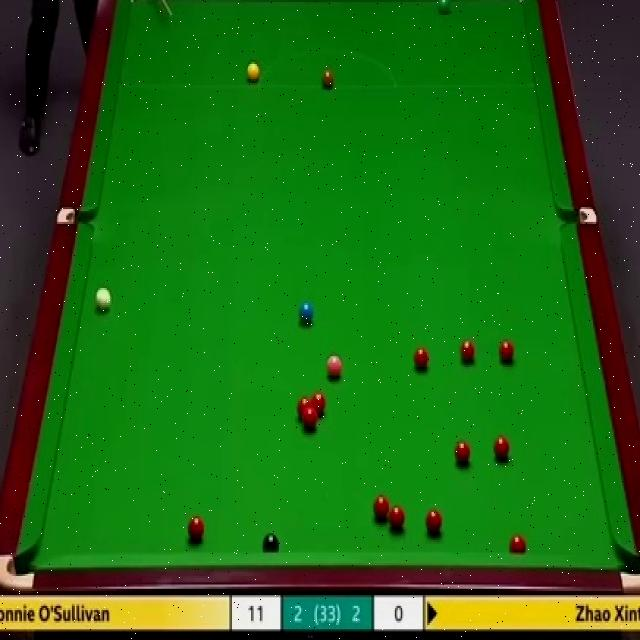black-ball: (262, 532, 282, 554)
blue-ball: (298, 300, 316, 324)
brown-ball: (321, 66, 334, 88)
green-ball: (436, 0, 451, 15)
pink-ball: (326, 355, 343, 382)
red-ball: (424, 510, 444, 538), (389, 502, 406, 534), (454, 440, 474, 467), (410, 344, 429, 371), (187, 514, 204, 543), (372, 496, 390, 522), (494, 435, 512, 461), (498, 339, 514, 366), (296, 397, 312, 423), (461, 339, 476, 364), (508, 533, 527, 552), (312, 392, 326, 417), (303, 411, 319, 432)
white-ball: (95, 285, 114, 313)
yellow-ball: (246, 64, 259, 82)
